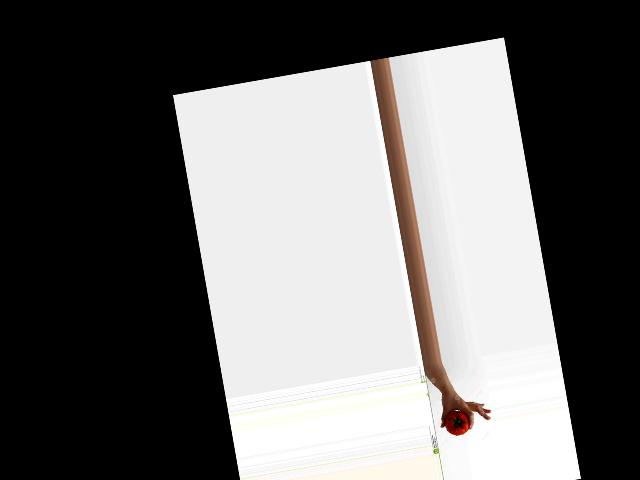tomato: (442, 408, 471, 437)
